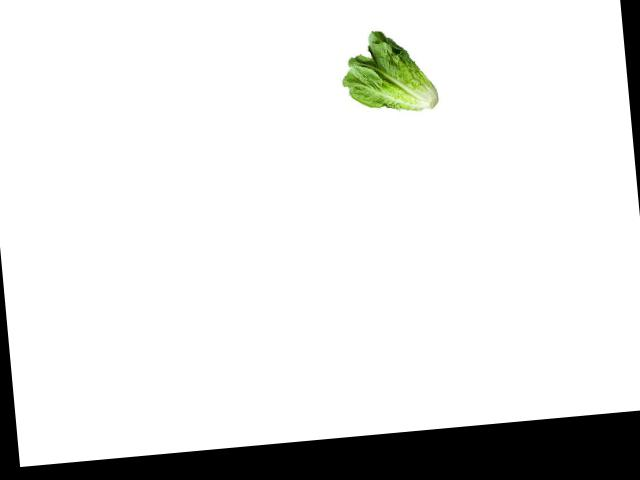lettuce: (338, 21, 445, 125)
